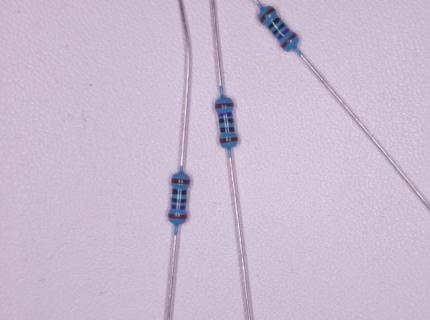Red band: (281, 32, 298, 48), (215, 102, 234, 109), (168, 213, 188, 219)
Violet band: (277, 28, 290, 41), (218, 112, 233, 118), (171, 204, 186, 210)
